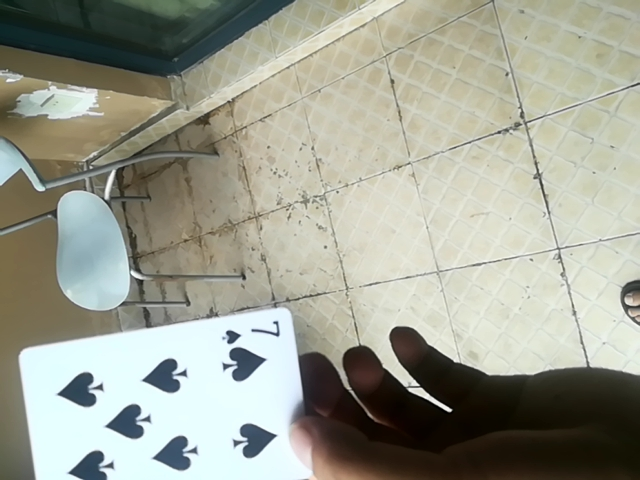ht 7: (23, 307, 311, 478)
